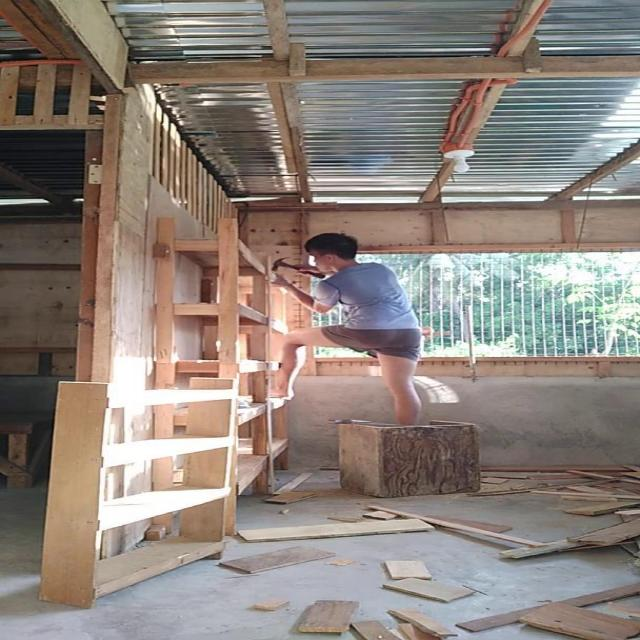hammer: (268, 257, 329, 280)
